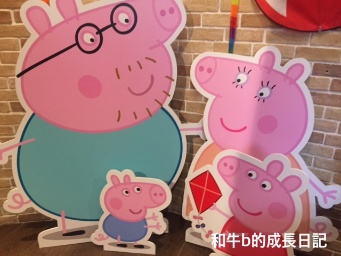Peppa: (212, 150, 308, 255)
